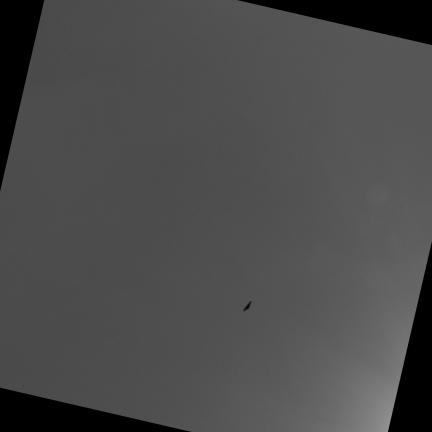Shahed: (243, 301, 251, 310)
